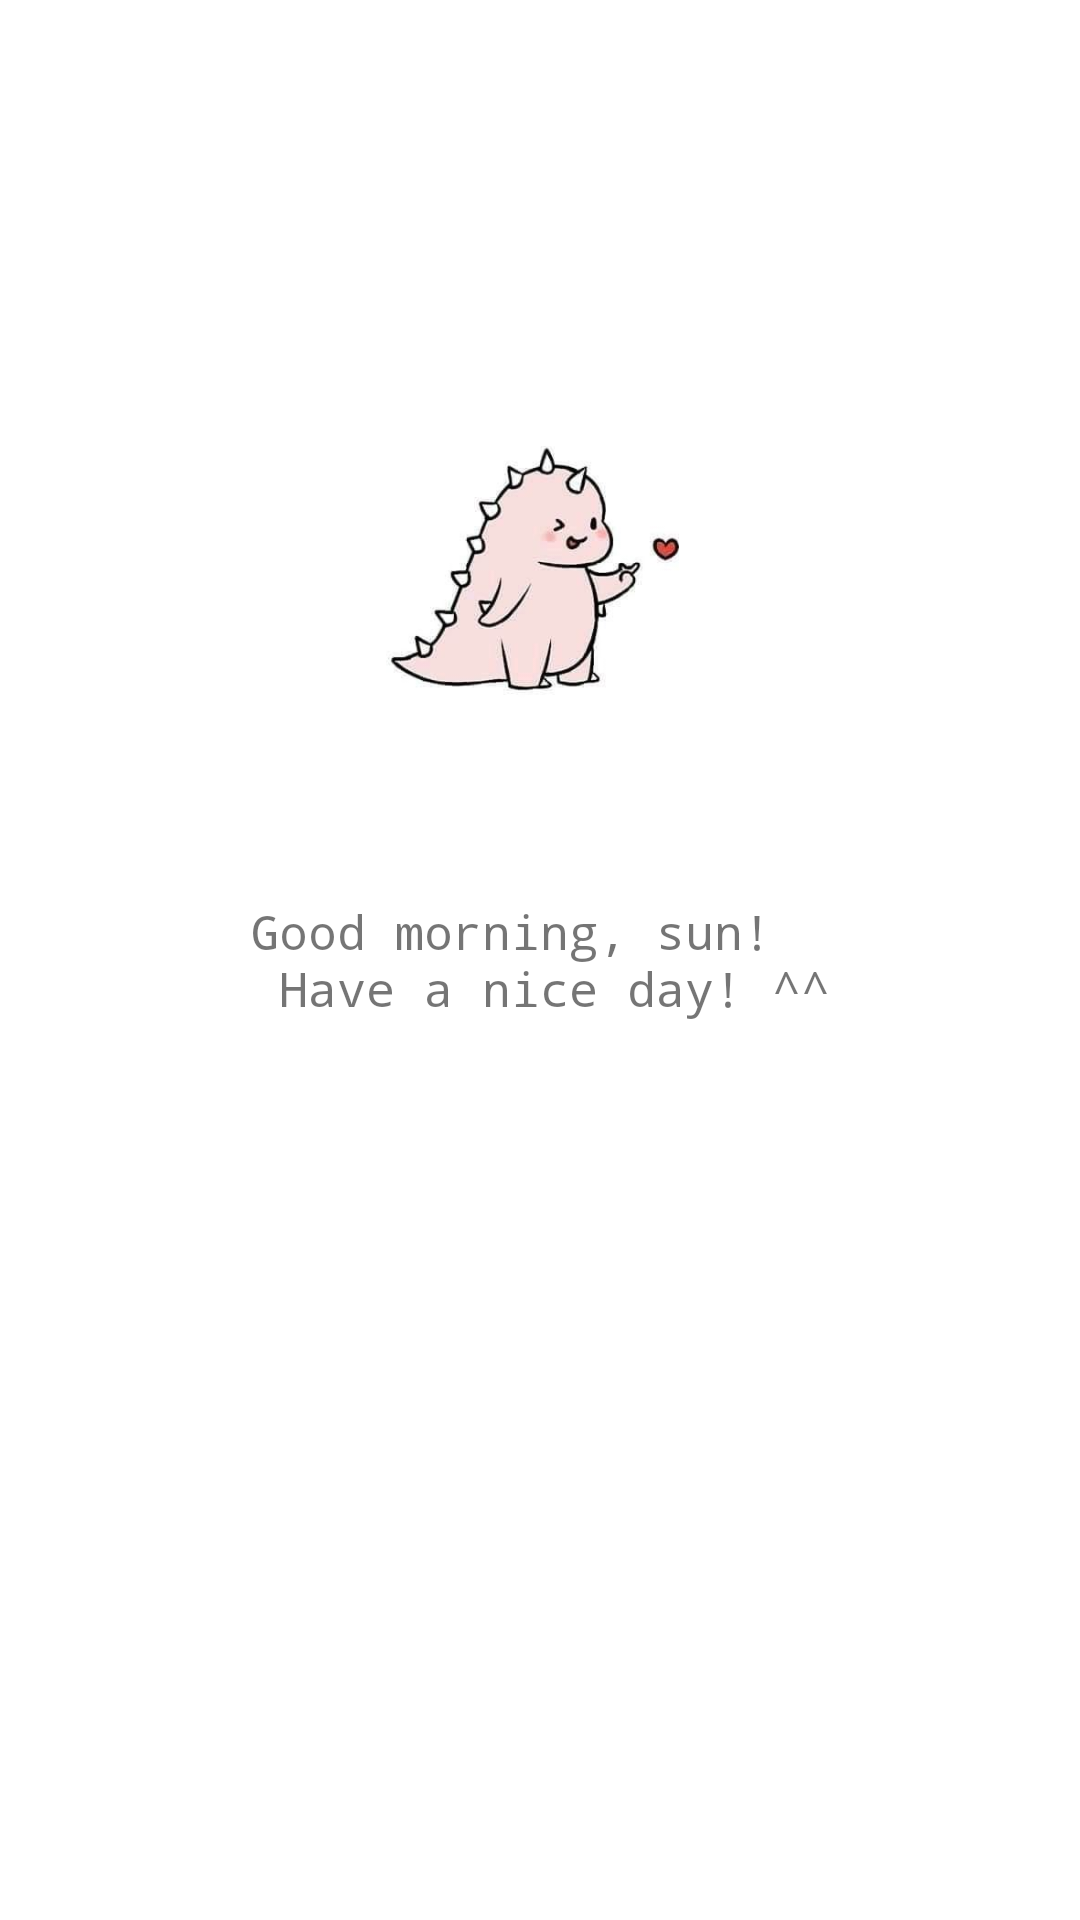

Point at icon controls on the screen. Image size 1080px×1920px, points as [x,y].
cute dino: [533,569]
